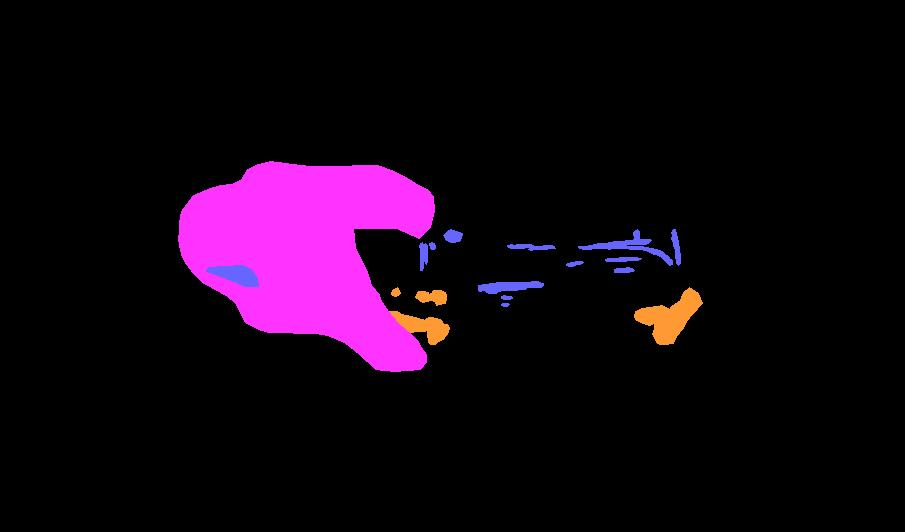Dent: (178, 161, 434, 371)
Paint chip: (263, 286, 431, 340), (634, 287, 702, 344), (425, 317, 449, 344), (254, 266, 288, 280), (430, 290, 446, 305), (415, 291, 430, 302), (391, 287, 400, 296)
Scratch: (578, 229, 651, 249), (600, 245, 672, 265), (206, 265, 258, 286), (478, 281, 543, 293), (671, 229, 680, 265), (443, 229, 462, 242), (605, 257, 641, 261), (419, 242, 424, 270), (528, 245, 555, 250), (507, 244, 533, 248), (614, 267, 634, 272), (566, 261, 583, 266), (424, 243, 427, 264), (501, 295, 512, 299), (429, 242, 435, 249), (501, 303, 509, 306)
